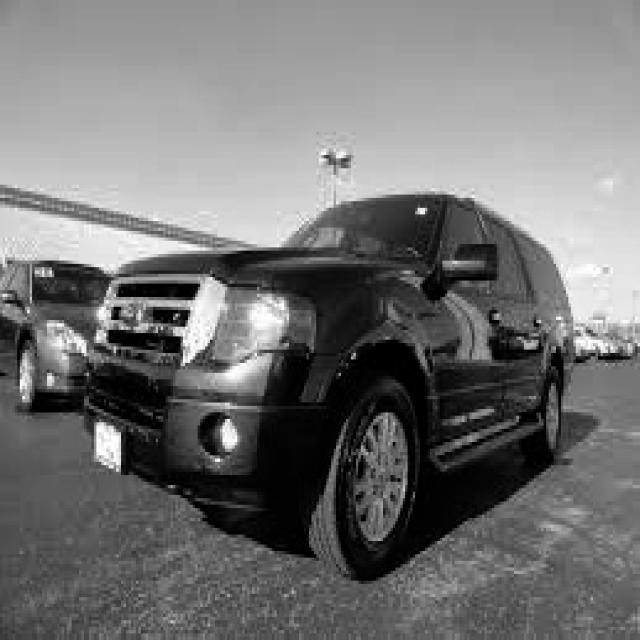car: (82, 188, 576, 581)
